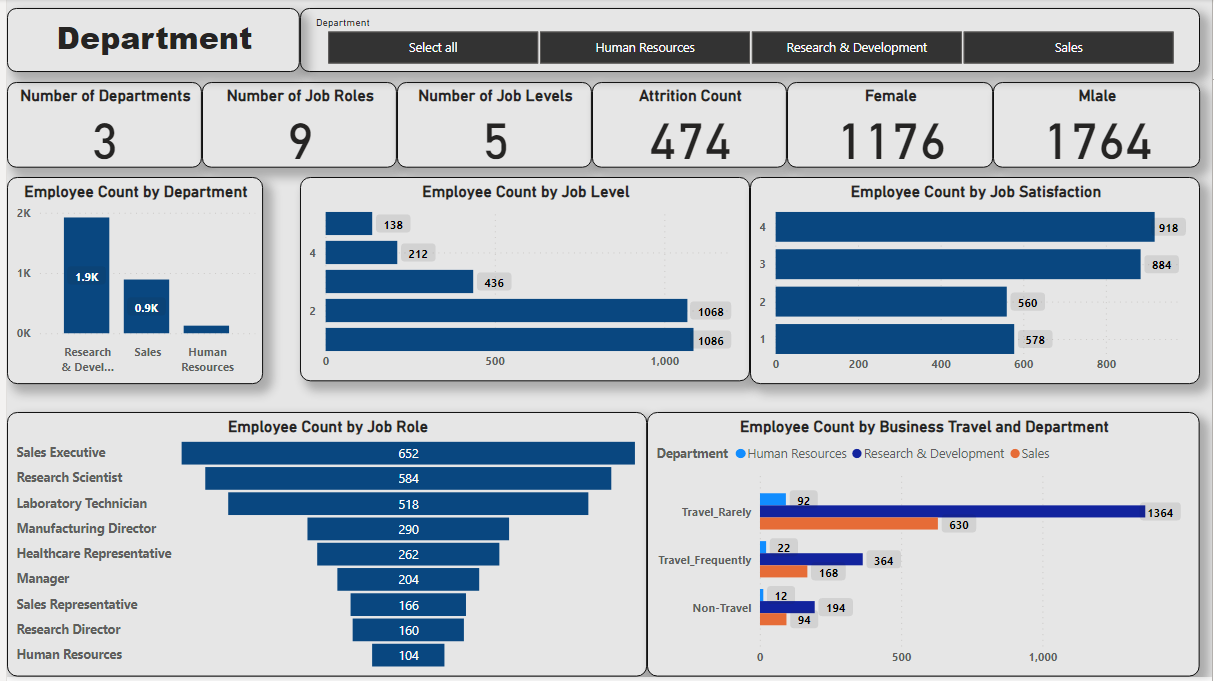

The dashboard page shown, as its layout file describes it:
{"tool":"powerbi","page":{"name":"Department","canvas":[1280,720],"ordinal":1},"visuals":[{"type":"card","title":"Number of Departments","fields":{"Values":["Count(HR_Employee_Attrition_Data.Department)"]},"box":[0,88.2,207.1,91.4],"z":0},{"type":"card","title":"Number of Job Roles","fields":{"Values":["Count(HR_Employee_Attrition_Data.JobRole)"]},"box":[207.1,88.2,207.1,91.4],"z":1000},{"type":"card","title":"Number of Job Levels","fields":{"Values":["Count(HR_Employee_Attrition_Data.JobLevel)"]},"box":[414.3,88.2,207.1,91.4],"z":2000},{"type":"card","title":"Attrition Count","fields":{"Values":["CountNonNull(HR_Employee_Attrition_Data.Attrition)"]},"box":[621.4,88.2,207.1,91.4],"z":3000},{"type":"card","title":"Female","fields":{"Values":["CountNonNull(HR_Employee_Attrition_Data.Gender)"]},"box":[828.5,88.2,218.8,91.4],"z":4000},{"type":"card","title":"Mlale","fields":{"Values":["CountNonNull(HR_Employee_Attrition_Data.Gender)"]},"box":[1047.4,88.2,219.9,91.4],"z":5000},{"type":"columnChart","title":"Employee Count by Department ","fields":{"Category":["HR_Employee_Attrition_Data.Department"],"Y":["CountNonNull(HR_Employee_Attrition_Data.Department)"]},"box":[0,189.1,271.9,219.9],"z":6000},{"type":"clusteredBarChart","title":"Employee Count by Job Level","fields":{"Category":["HR_Employee_Attrition_Data.JobLevel"],"Y":["CountNonNull(HR_Employee_Attrition_Data.JobLevel)"]},"box":[311.2,189.1,478,216.7],"z":7000},{"type":"clusteredBarChart","title":"Employee Count by Job Satisfaction","fields":{"Category":["HR_Employee_Attrition_Data.JobSatisfaction"],"Y":["CountNonNull(HR_Employee_Attrition_Data.JobSatisfaction)"]},"box":[789.2,189.1,478,219.9],"z":8000},{"type":"funnel","title":"Employee Count by Job Role ","fields":{"Category":["HR_Employee_Attrition_Data.JobRole"],"Y":["CountNonNull(HR_Employee_Attrition_Data.JobRole)"]},"box":[0,438.7,679.8,281.5],"z":9000},{"type":"clusteredBarChart","title":"Employee Count by Business Travel and Department","fields":{"Category":["HR_Employee_Attrition_Data.BusinessTravel"],"Y":["CountNonNull(HR_Employee_Attrition_Data.BusinessTravel)"],"Series":["HR_Employee_Attrition_Data.Department"]},"box":[679.8,438.7,587.4,281.5],"z":10000},{"type":"slicer","fields":{"Values":["HR_Employee_Attrition_Data.Department"]},"box":[311.2,9.6,956,68],"z":11000},{"type":"textbox","box":[0,9.6,311.2,68],"z":12000}]}

Visuals, with their boxes in screenshot pixels (x1, y1, x2, y2), scaled from the page's 1280x720 canvas onto the 1214x681 screenshot:
"Number of Departments" card: {"left": 0, "top": 83, "right": 196, "bottom": 170}
"Number of Job Roles" card: {"left": 196, "top": 83, "right": 393, "bottom": 170}
"Number of Job Levels" card: {"left": 393, "top": 83, "right": 589, "bottom": 170}
"Attrition Count" card: {"left": 589, "top": 83, "right": 786, "bottom": 170}
"Female" card: {"left": 786, "top": 83, "right": 993, "bottom": 170}
"Mlale" card: {"left": 993, "top": 83, "right": 1202, "bottom": 170}
"Employee Count by Department " columnChart: {"left": 0, "top": 179, "right": 258, "bottom": 387}
"Employee Count by Job Level" clusteredBarChart: {"left": 295, "top": 179, "right": 749, "bottom": 384}
"Employee Count by Job Satisfaction" clusteredBarChart: {"left": 749, "top": 179, "right": 1202, "bottom": 387}
"Employee Count by Job Role " funnel: {"left": 0, "top": 415, "right": 645, "bottom": 680}
"Employee Count by Business Travel and Department" clusteredBarChart: {"left": 645, "top": 415, "right": 1202, "bottom": 680}
slicer - HR_Employee_Attrition_Data.Department: {"left": 295, "top": 9, "right": 1202, "bottom": 73}
textbox: {"left": 0, "top": 9, "right": 295, "bottom": 73}
